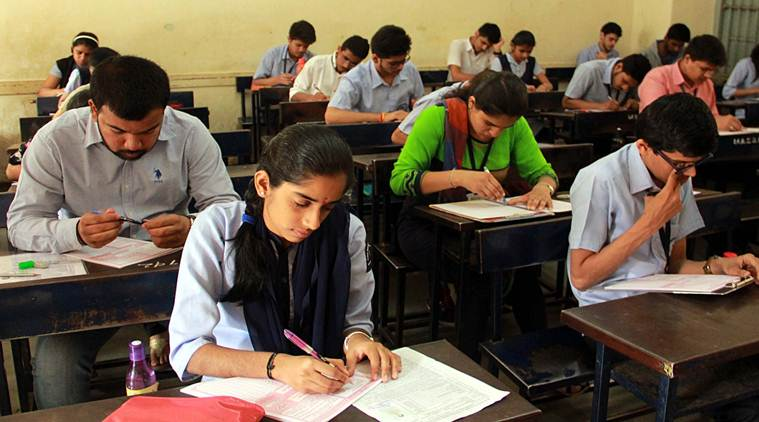student: (165, 136, 418, 384), (7, 64, 238, 242), (582, 103, 750, 303), (389, 67, 564, 206), (326, 23, 430, 128), (452, 22, 547, 80), (647, 42, 731, 103), (576, 43, 663, 97), (58, 22, 107, 70)
